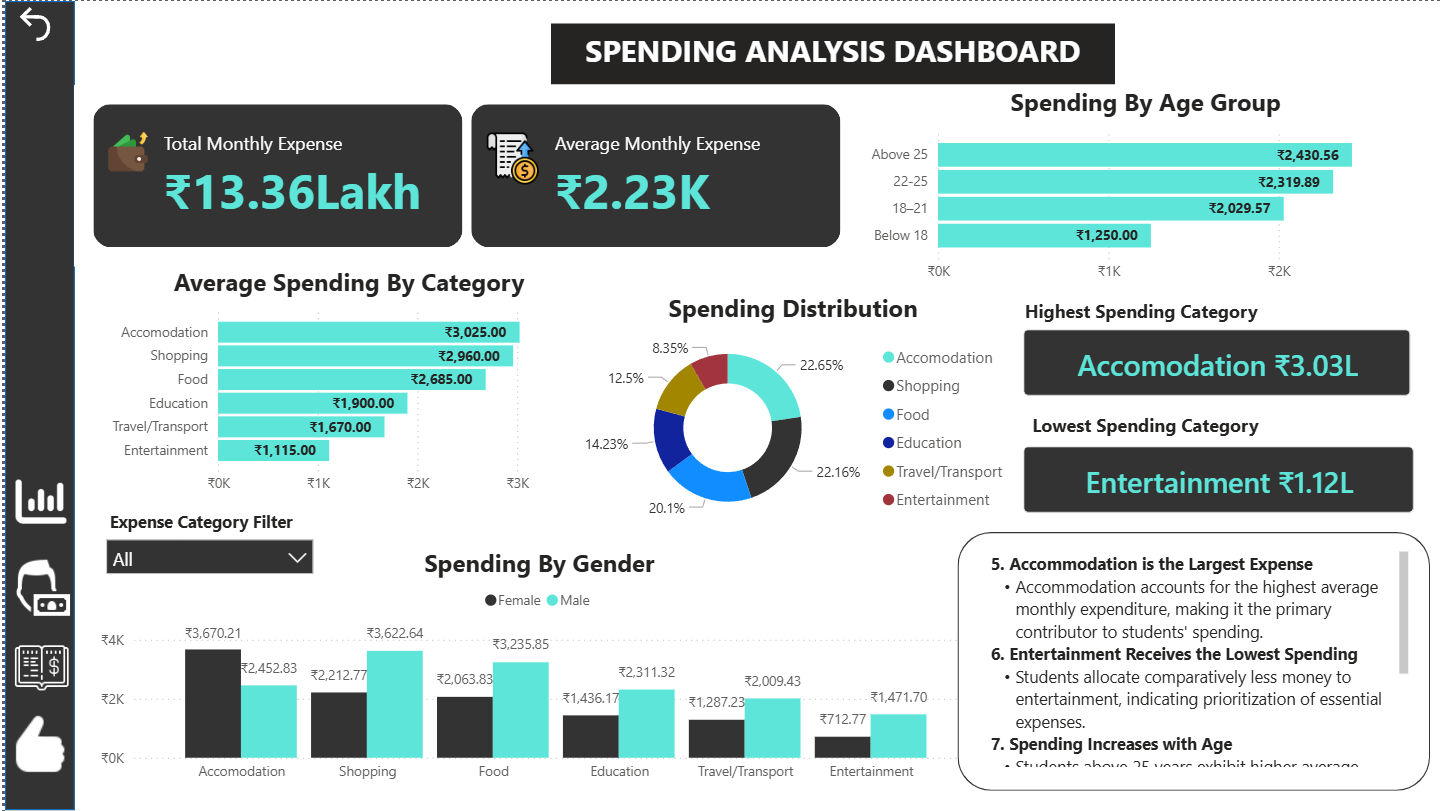

Layout of this report page (visuals, bound fields, positions):
{"tool":"powerbi","page":{"name":"Spending Analysis","canvas":[1280,720],"ordinal":2},"visuals":[{"type":"barChart","title":"Average Spending By Category","fields":{"Category":["Student Expense.Text Between Delimiters"],"Y":["Avg(Student Expense.Numeric Expense)"]},"box":[80.5,235.3,451.6,211.6],"z":0},{"type":"shape","box":[0,0,62.1,719.2],"z":1000},{"type":"donutChart","title":"Spending Distribution","fields":{"Category":["Student Expense.Attribute SF"],"Y":["Sum(Student Expense.Numeric Expense)"]},"box":[500.5,257.4,401.1,214.7],"z":2000},{"type":"clusteredColumnChart","title":"Spending By Gender","fields":{"Category":["Student Expense.Attribute SF"],"Series":["Student_Data.Gender"],"Y":["Avg(Student Expense.Numeric Expense)"]},"box":[80,483.3,790,218.3],"z":3000},{"type":"barChart","title":"Spending By Age Group","fields":{"Category":["Student_Data.Age"],"Y":["Avg(Student Expense.Numeric Expense)"]},"box":[760.4,74.2,508,183.1],"z":4000},{"type":"cardVisual","fields":{"Data":["Measure.Total Monthly Expense","Measure.Average Monthly Expense"]},"box":[61,74.2,699.4,161.6],"z":5000},{"type":"cardVisual","fields":{"Data":["Measure.Highest Spending Category"]},"box":[888.3,275,378.3,93.3],"z":6000},{"type":"shape","title":"Spending Rectangle","box":[846.7,471.7,420,230],"z":7000},{"type":"textbox","box":[901.7,258.3,320,31.7],"z":8000},{"type":"cardVisual","fields":{"Data":["Measure.Lowest Spending Category"]},"box":[888.3,378.3,381.7,93.3],"z":9000},{"type":"textbox","box":[908.3,360,371.7,33.3],"z":10000},{"type":"slicer","fields":{"Values":["Student_Data.Course / Program"]},"box":[80.5,446.8,203.7,74.2],"z":11000},{"type":"textbox","box":[485.9,19.4,501.2,54.1],"z":12000},{"type":"actionButton","box":[6.5,0,48.7,40.6],"z":13000},{"type":"textbox","box":[870,483.3,381.7,201.7],"z":14000},{"type":"image","box":[4.9,488.2,56.1,67.6],"z":15000},{"type":"image","box":[8.2,564.1,49.5,56.1],"z":16000},{"type":"image","box":[1.6,425.6,61,39.6],"z":17000},{"type":"image","box":[0,621.9,61,79.2],"z":18000},{"type":"columnChart","box":[100,100,300,300],"z":18001}]}

Visuals, with their boxes on the page's 1280x720 design canvas (x1, y1, x2, y2). These are canvas units, not pixel positions in the 1444x811 screenshot, which may show the page scaled, cropped or inside an application window:
"Average Spending By Category" barChart: box(80, 235, 532, 447)
shape: box(0, 0, 62, 719)
"Spending Distribution" donutChart: box(500, 257, 902, 472)
"Spending By Gender" clusteredColumnChart: box(80, 483, 870, 702)
"Spending By Age Group" barChart: box(760, 74, 1268, 257)
cardVisual - Measure.Total Monthly Expense x Measure.Average Monthly Expense: box(61, 74, 760, 236)
cardVisual - Measure.Highest Spending Category: box(888, 275, 1267, 368)
"Spending Rectangle" shape: box(847, 472, 1267, 702)
textbox: box(902, 258, 1222, 290)
cardVisual - Measure.Lowest Spending Category: box(888, 378, 1270, 472)
textbox: box(908, 360, 1280, 393)
slicer - Student_Data.Course / Program: box(80, 447, 284, 521)
textbox: box(486, 19, 987, 74)
actionButton: box(6, 0, 55, 41)
textbox: box(870, 483, 1252, 685)
image: box(5, 488, 61, 556)
image: box(8, 564, 58, 620)
image: box(2, 426, 63, 465)
image: box(0, 622, 61, 701)
columnChart: box(100, 100, 400, 400)
